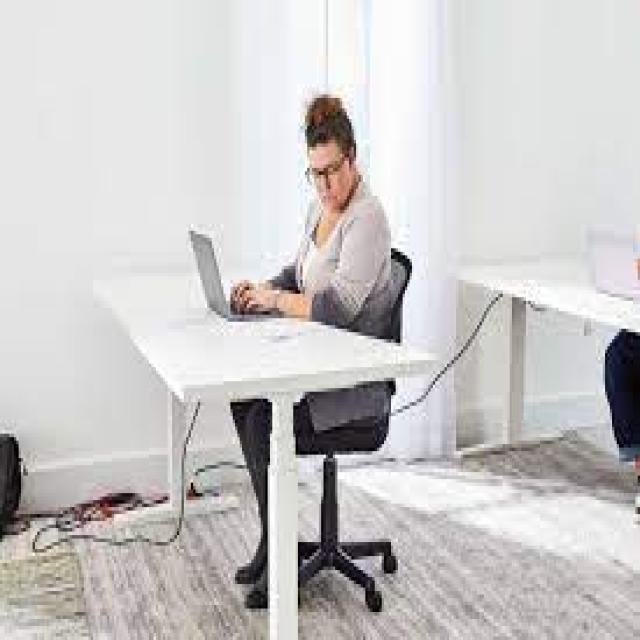chair: (226, 208, 424, 640)
